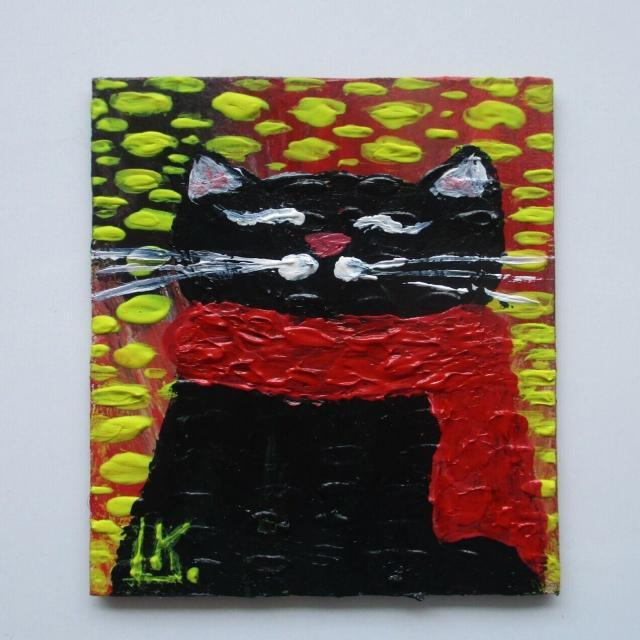painting: (90, 76, 558, 598)
